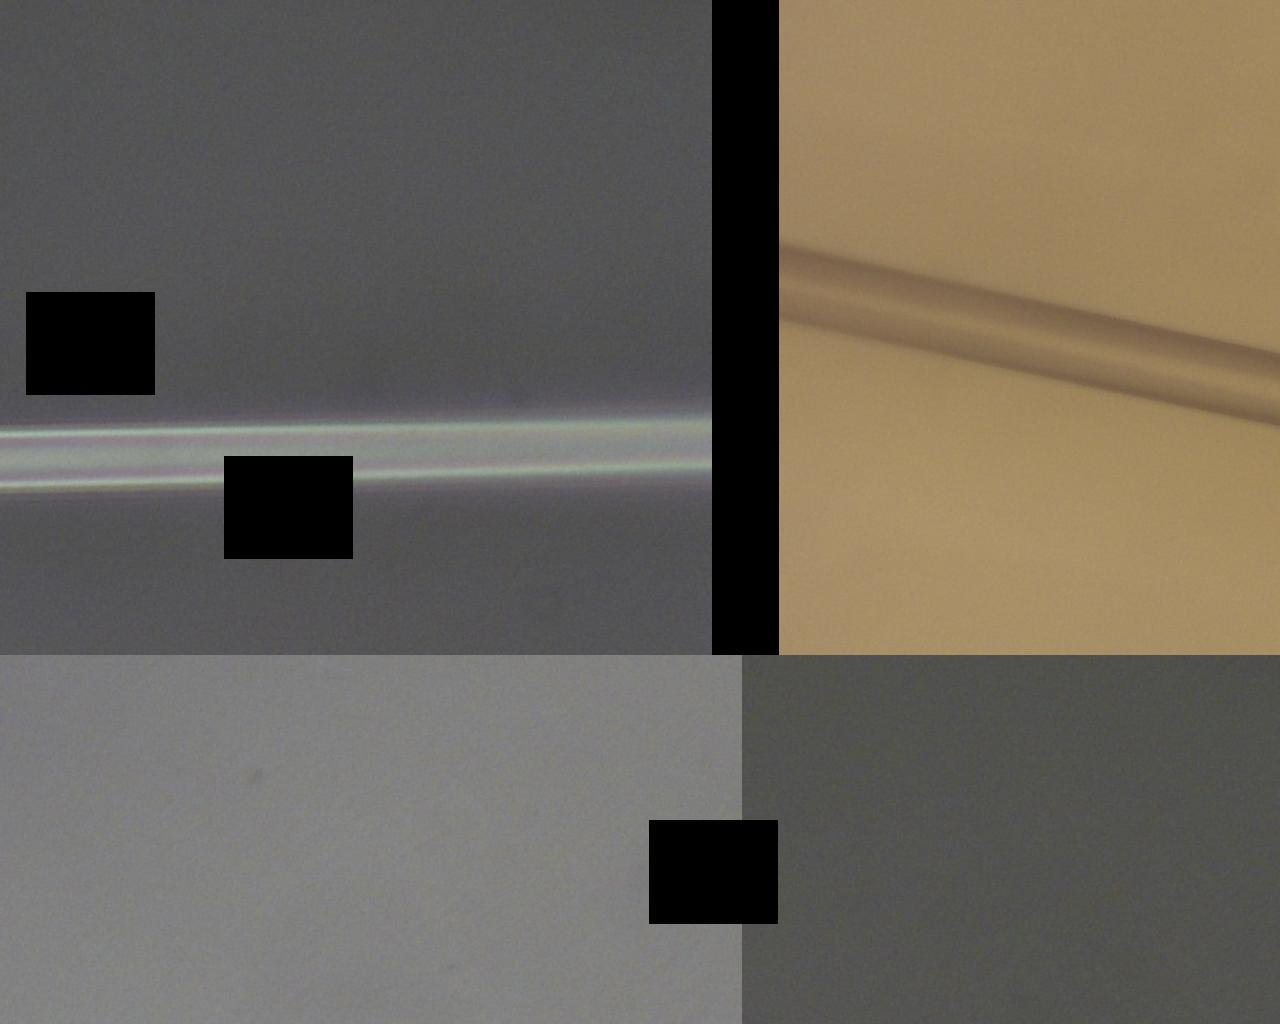fiber: (697, 409, 1203, 1024), (294, 237, 1212, 402), (0, 521, 294, 575)
